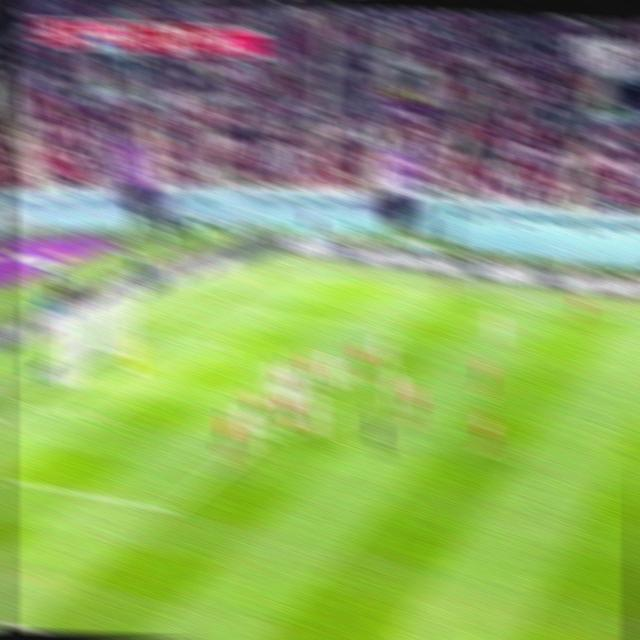bigarea_bottom_inner: (153, 493, 181, 523)
bigarea_top_inner: (383, 321, 405, 341)
bigarea_top_outter: (212, 293, 236, 313)
bottom_arc_area_intersection: (252, 423, 276, 443)
corner: (271, 265, 296, 280)
smallarea_bottom_inner: (85, 402, 114, 430)
smallarea_bottom_outter: (17, 393, 42, 415)
smallarea_top_inner: (207, 336, 233, 356)
smallarea_top_outter: (151, 325, 176, 345)
top_arc_area_intersection: (329, 361, 354, 382)
